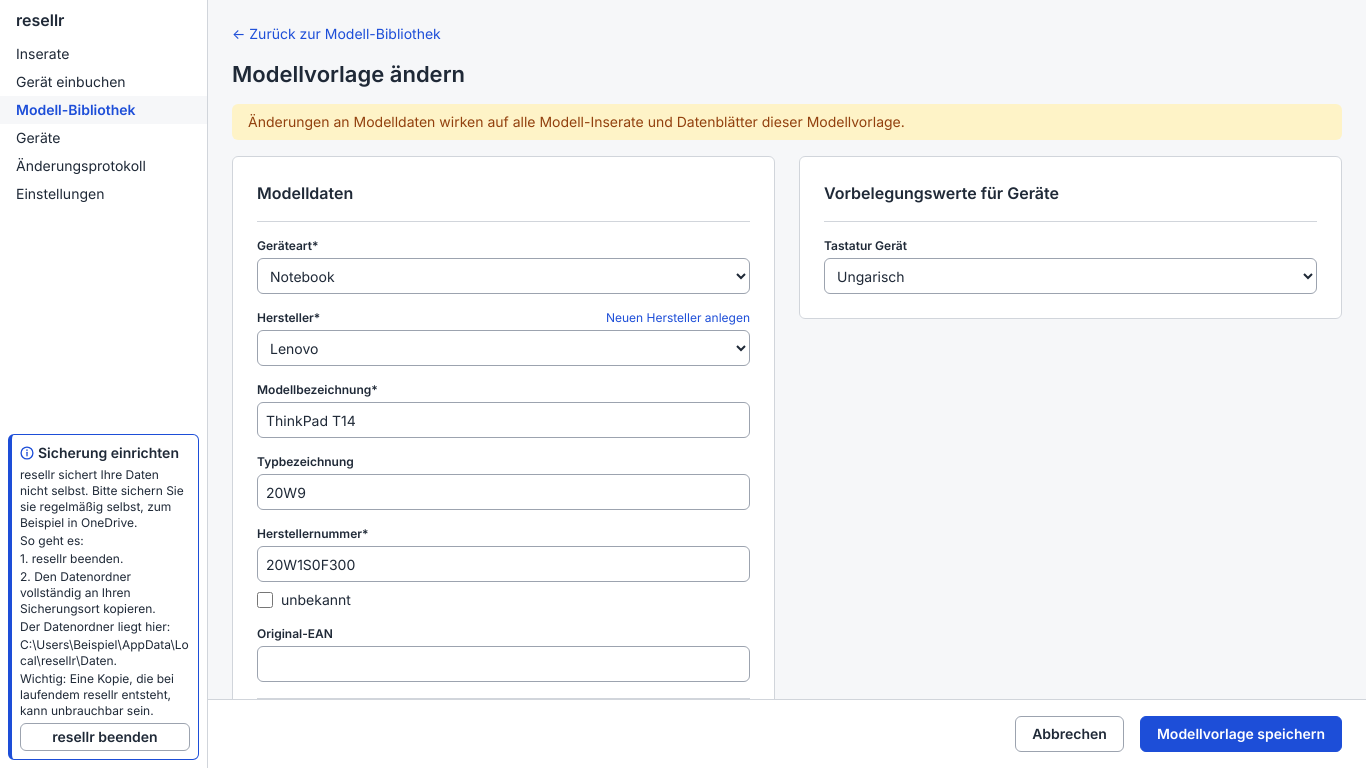
Test: UI-007 changing a model template (CU-114, #181) › UI-007.conflict DER-52-05 shows P-05 with "Neu laden", nothing saved, the inputs stay until the reload
The width and height of the screenshot is (1366, 768).
Expected: the form named "Modellvorlage ändern" is shown, [232,156,1342,699]
Replace the text in the field labelled "Typbezeichnung" with "20W2" at (504, 492), box [257,474,750,510]
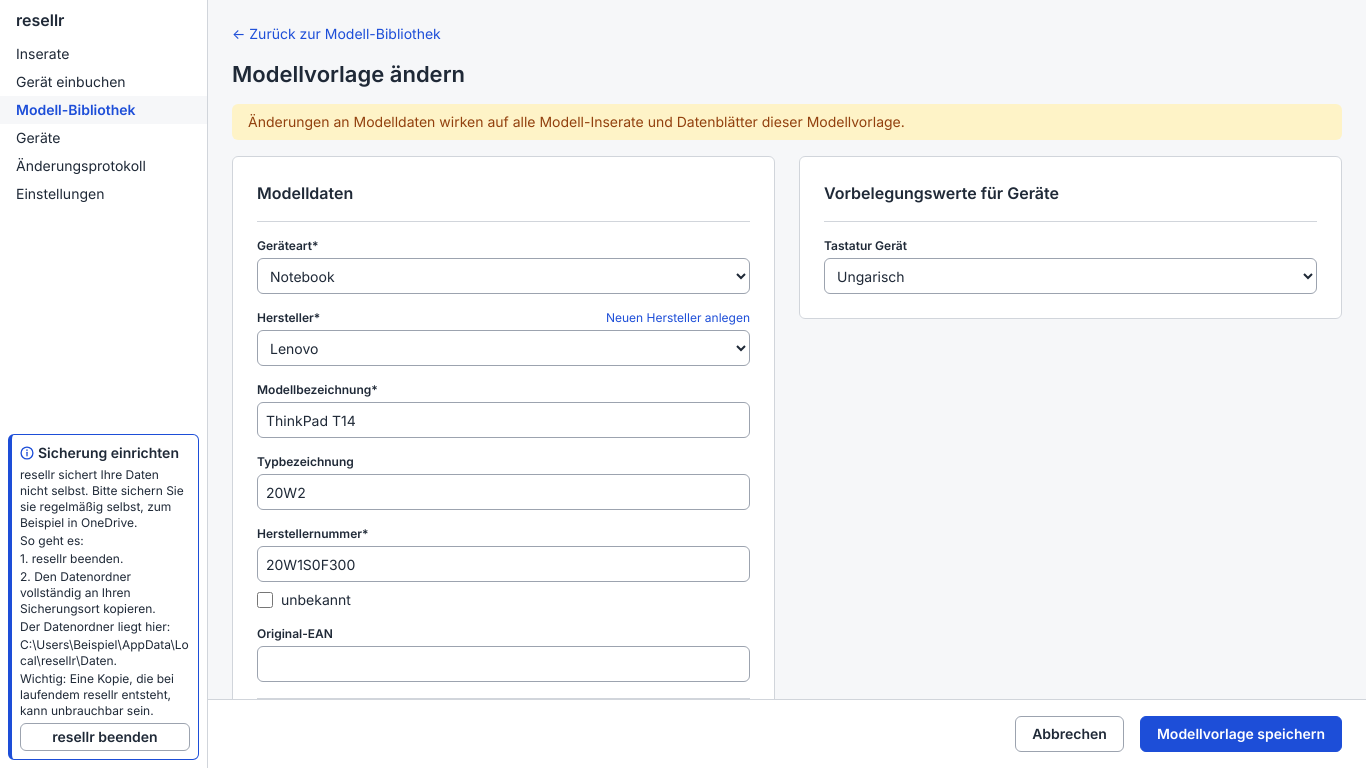
Click the button "Modellvorlage speichern" at (1241, 734), box [1140,716,1342,752]
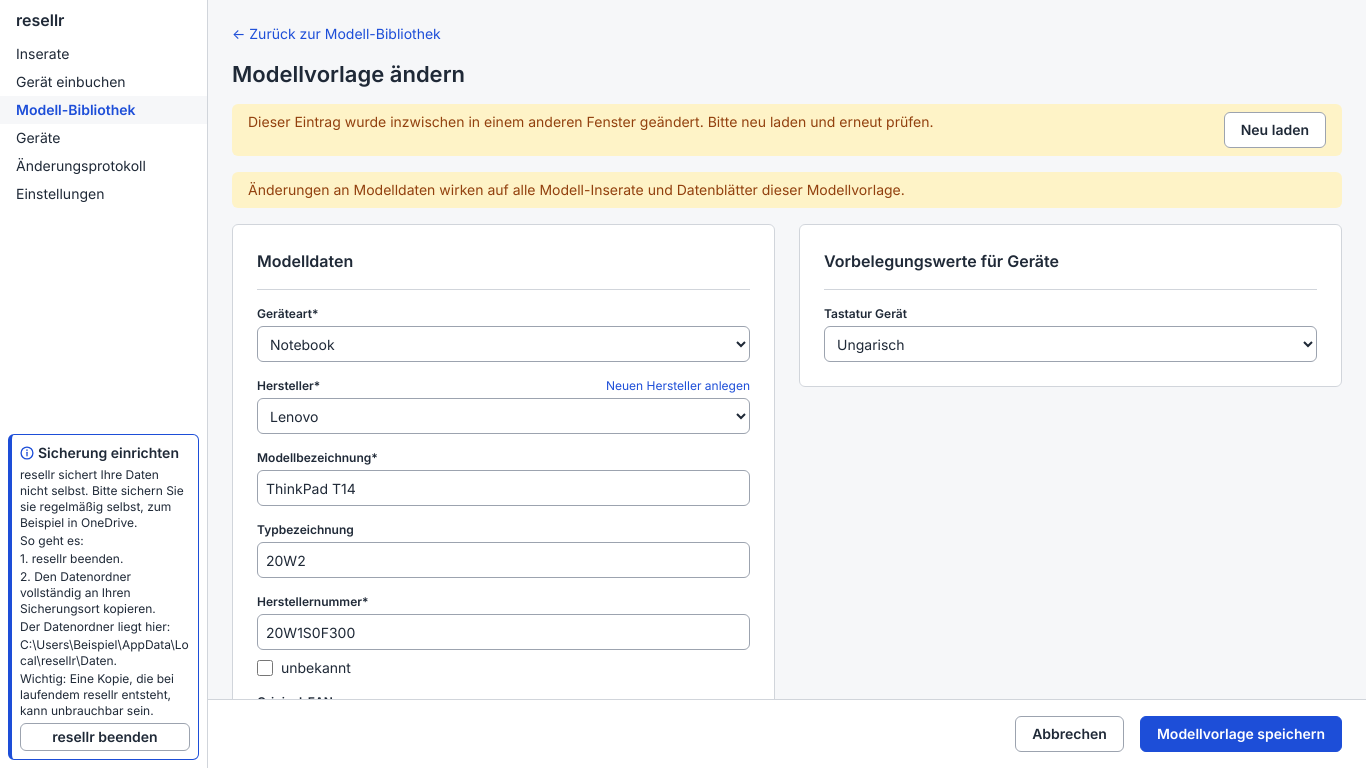
Expected: the heading "Modellvorlage ändern" is shown, [232,61,465,87]
Now the message shows "Dieser Eintrag wurde inzwischen in einem anderen Fenster geändert. Bitte neu laden und erneut prüfen.", box [248,113,934,130]
Click the button "Neu laden" at (1275, 130), box [1224,112,1326,148]
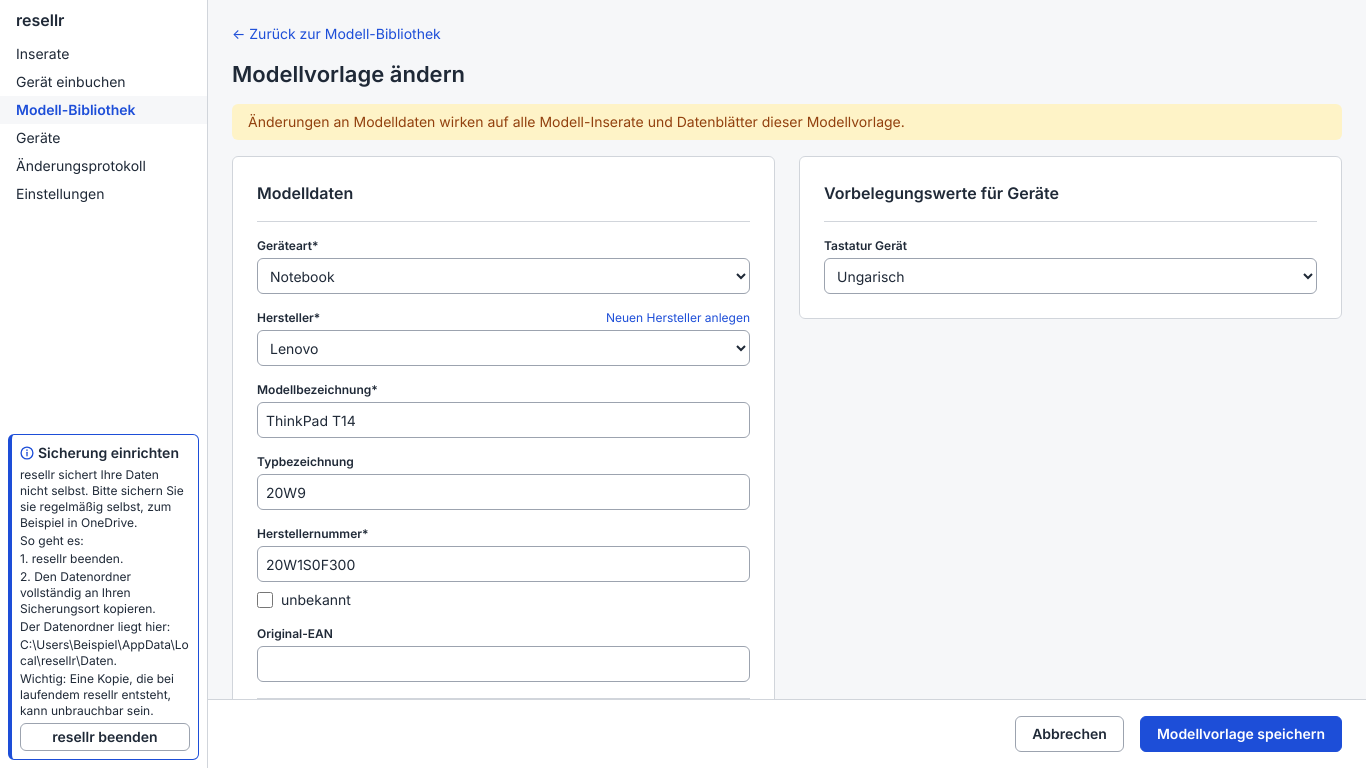
Now the message is gone
